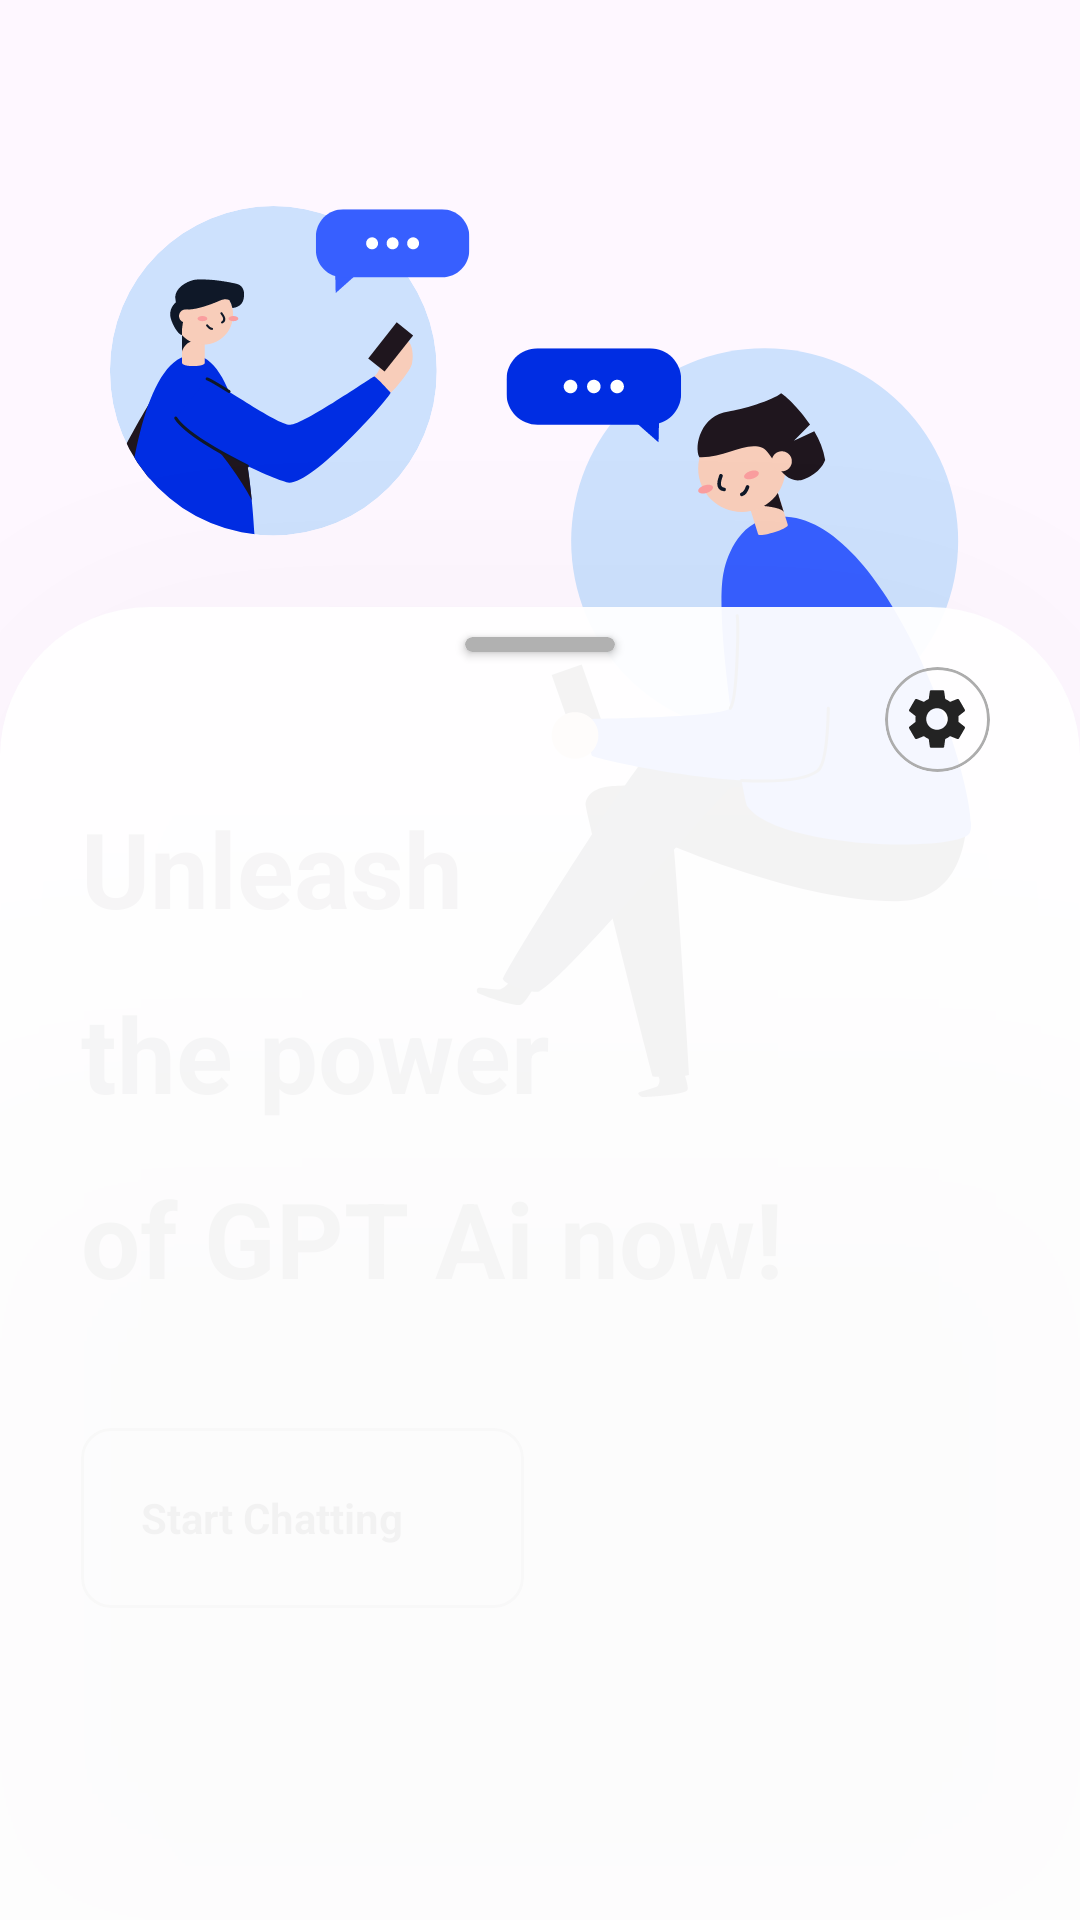

Named icons in this screenshot (1080px×1920px) and their bounding boxes, (x1, y1, x2, y2):
setting: (909, 690, 965, 748)
